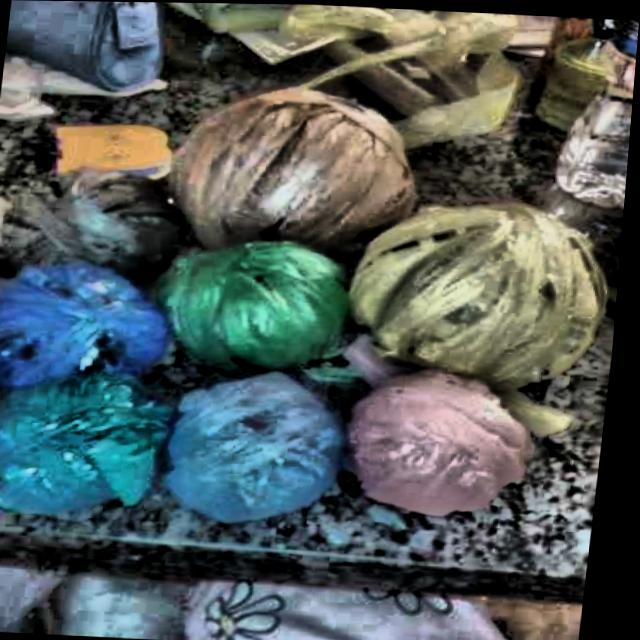Plastic: (323, 173, 610, 386), (160, 79, 440, 269), (136, 363, 354, 535), (348, 362, 549, 531), (0, 365, 180, 521), (147, 241, 362, 370)
